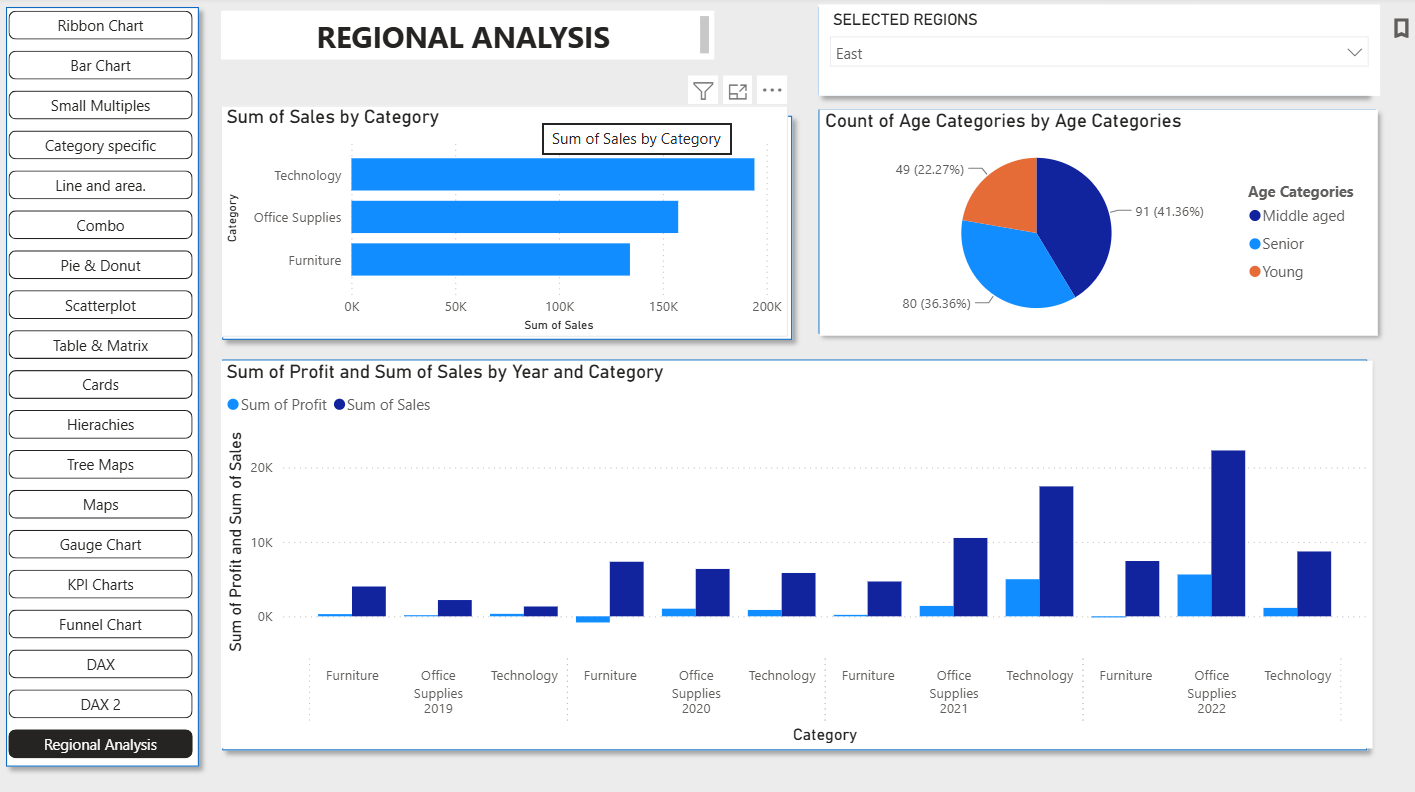

The dashboard page shown, as its layout file describes it:
{"tool":"powerbi","page":{"name":"Regional Analysis","canvas":[1280,720],"ordinal":18},"visuals":[{"type":"textbox","box":[203,12.2,445.1,44],"z":0},{"type":"shape","box":[0,0,192,703],"z":1000},{"type":"shape","box":[194.4,97.8,531.9,220.1],"z":2000},{"type":"shape","box":[732.5,92.9,520.9,220.1],"z":3000},{"type":"shape","box":[194.4,317.9,1050.4,370.5],"z":4000},{"type":"shape","box":[732.5,0,512.4,97.8],"z":5000},{"type":"slicer","fields":{"Values":["Customer Data.Region"]},"box":[741.2,7.1,506,82.7],"z":6000},{"type":"clusteredBarChart","fields":{"Category":["Product Data.Category"],"Y":["Sum(Sales Data.Sales)"]},"box":[203,97.8,511.1,209.1],"z":7000},{"type":"pageNavigator","box":[11,12.2,166.3,676.2],"z":8000},{"type":"pieChart","fields":{"Category":["Customer Data.Age Categories"],"Y":["CountNonNull(Customer Data.Age Categories)"]},"box":[742.6,101.2,503.2,203.8],"z":9000},{"type":"clusteredColumnChart","fields":{"Category":["Sales Data.Ship Date.Variation.Date Hierarchy.Year","Product Data.Category"],"Y":["Sum(Sales Data.Profit)","Sum(Sales Data.Sales)"]},"box":[203,327.7,1038.2,349.7],"z":10000},{"type":"actionButton","box":[1254.3,0,25.7,55.7],"z":11000}]}

Visuals, with their boxes on the page's 1280x720 design canvas (x1, y1, x2, y2). These are canvas units, not pixel positions in the 1415x792 screenshot, which may show the page scaled, cropped or inside an application window:
textbox: Rect(203, 12, 648, 56)
shape: Rect(0, 0, 192, 703)
shape: Rect(194, 98, 726, 318)
shape: Rect(732, 93, 1253, 313)
shape: Rect(194, 318, 1245, 688)
shape: Rect(732, 0, 1245, 98)
slicer - Customer Data.Region: Rect(741, 7, 1247, 90)
clusteredBarChart - Product Data.Category x Sum(Sales Data.Sales): Rect(203, 98, 714, 307)
pageNavigator: Rect(11, 12, 177, 688)
pieChart - Customer Data.Age Categories x CountNonNull(Customer Data.Age Categories): Rect(743, 101, 1246, 305)
clusteredColumnChart - Sales Data.Ship Date.Variation.Date Hierarchy.Year x Product Data.Category: Rect(203, 328, 1241, 677)
actionButton: Rect(1254, 0, 1280, 56)
